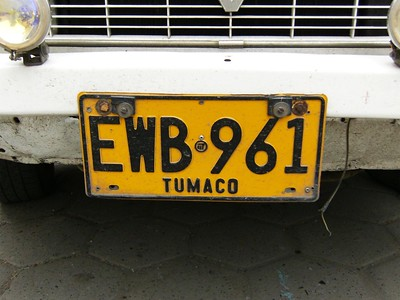placa_carro: (60, 78, 352, 219)
